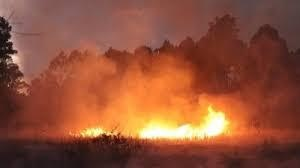fire: (135, 103, 232, 139)
